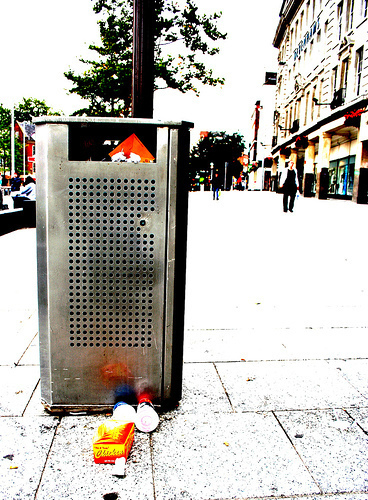litter: (96, 419, 134, 473), (104, 134, 154, 164), (135, 402, 162, 430), (113, 402, 133, 421)
